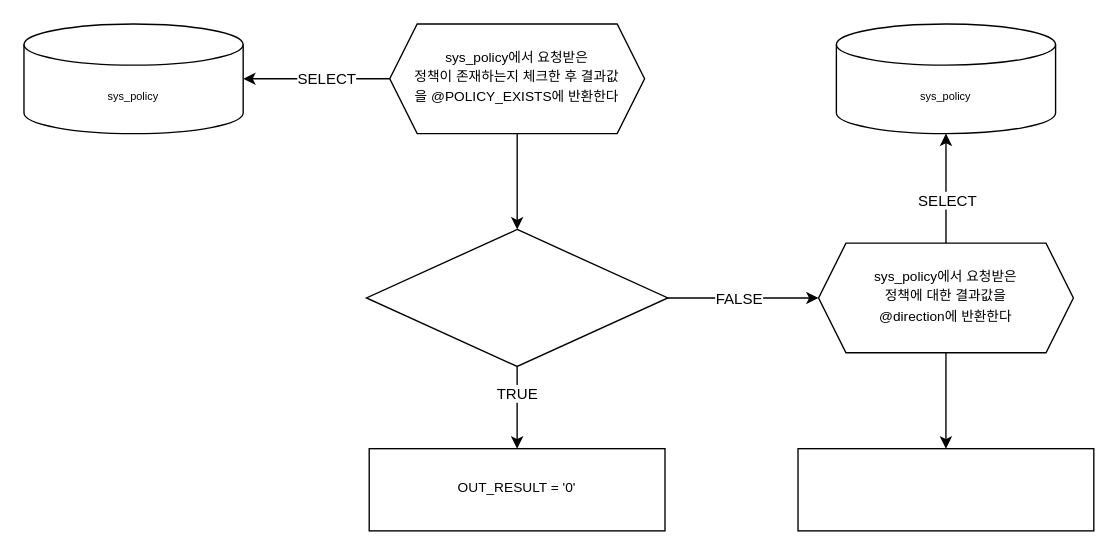
Image size: 1118x555. Some labels were removed from this diagram. Here are the shapes that lost their labels. From the top down, the centre of each, then its label:
At [516,297]: "요청받은 정책이 존재하는가?@POLICY_EXISTS = 0".
At [945,489]: "OUT_RESULT = @direction".
